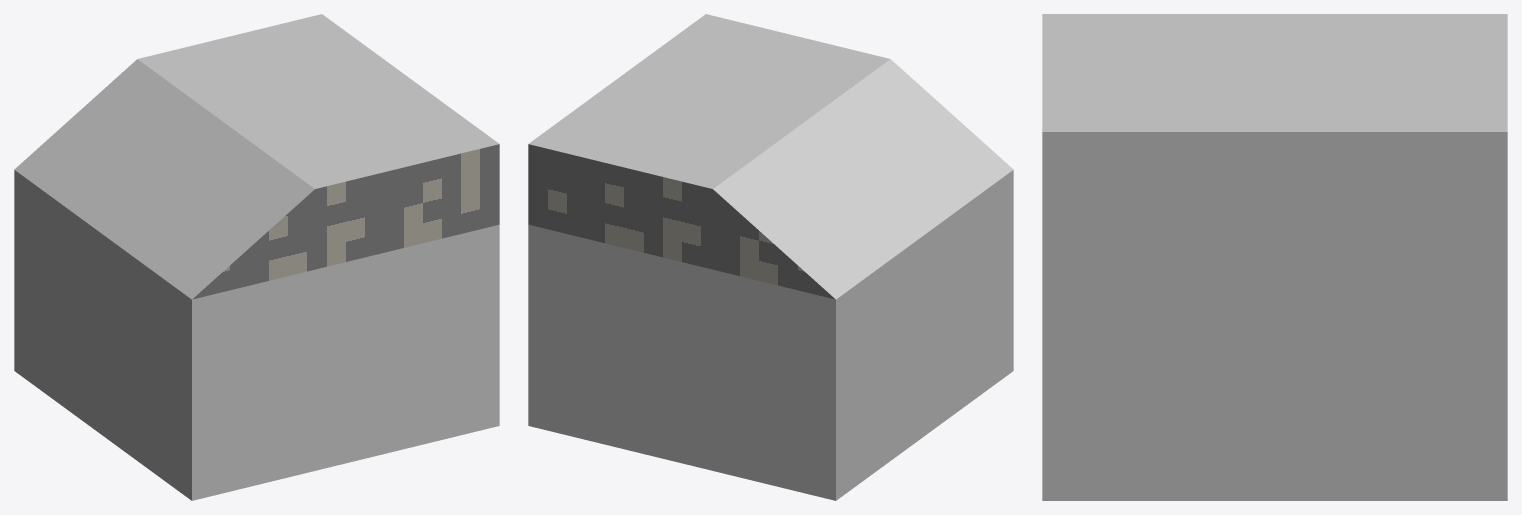
File: slope62_5_shave6_base10.obj
The picture shows the model from 3 angles, left to right: view 1: azimuth 30°, elevation 25°; view 2: azimuth 150°, elevation 25°; view 3: azimuth 270°, elevation 25°; orthographic projection. The views are drawn at different scales.
Bounding box in the file's own units: 1 × 0.875 × 1.
